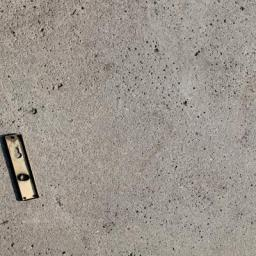FOD: (1, 128, 50, 205)
